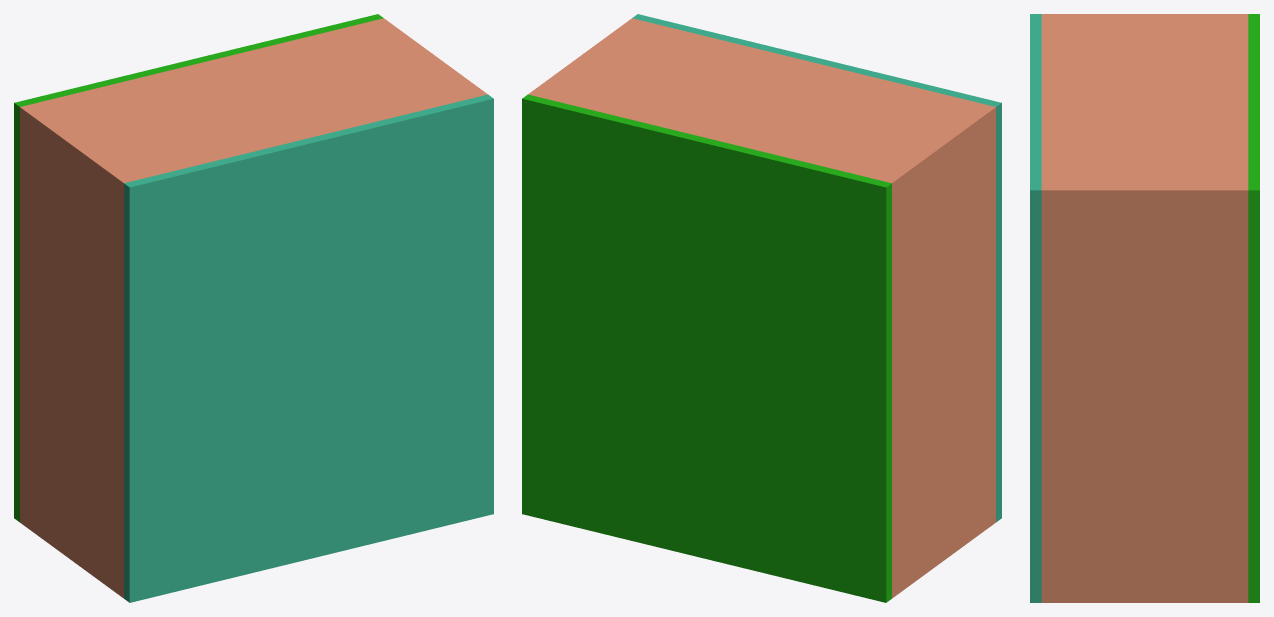
The model's file is TRsim_room.glb.
3 views of the same model, side by side, from view 1: azimuth 30°, elevation 25°; view 2: azimuth 150°, elevation 25°; view 3: azimuth 270°, elevation 25° (orthographic).
Visible parts, largest first — view 1: ceiling, wall, floor; view 2: floor, wall, ceiling; view 3: wall, ceiling, floor.
Part boxes in pixels (box(x1,y1,x2,y2)): ceiling: box(124, 94, 493, 602); wall: box(20, 18, 487, 598); floor: box(14, 14, 383, 522); floor: box(522, 94, 891, 602); wall: box(528, 18, 995, 598); ceiling: box(632, 14, 1001, 522); wall: box(1041, 14, 1248, 602); ceiling: box(1030, 14, 1041, 602); floor: box(1248, 14, 1259, 602).
Bounding box in the file's own units: 5.45 × 5.94 × 3.
